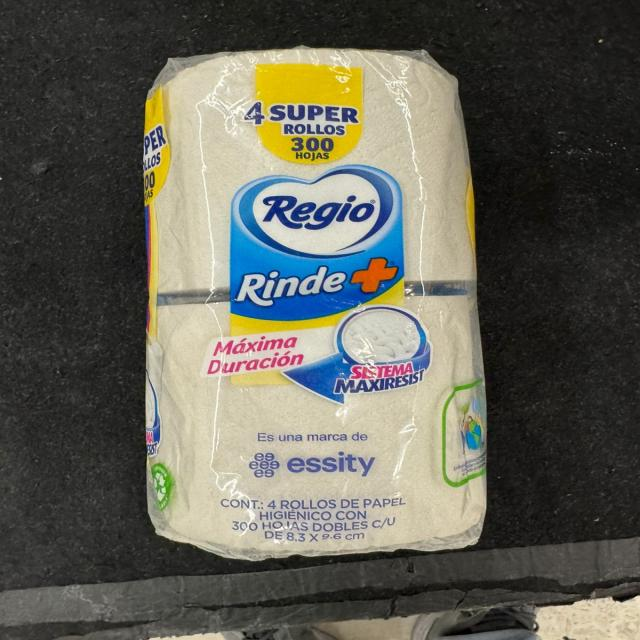Papel Regio Rinde 4pz: (136, 43, 518, 558)
